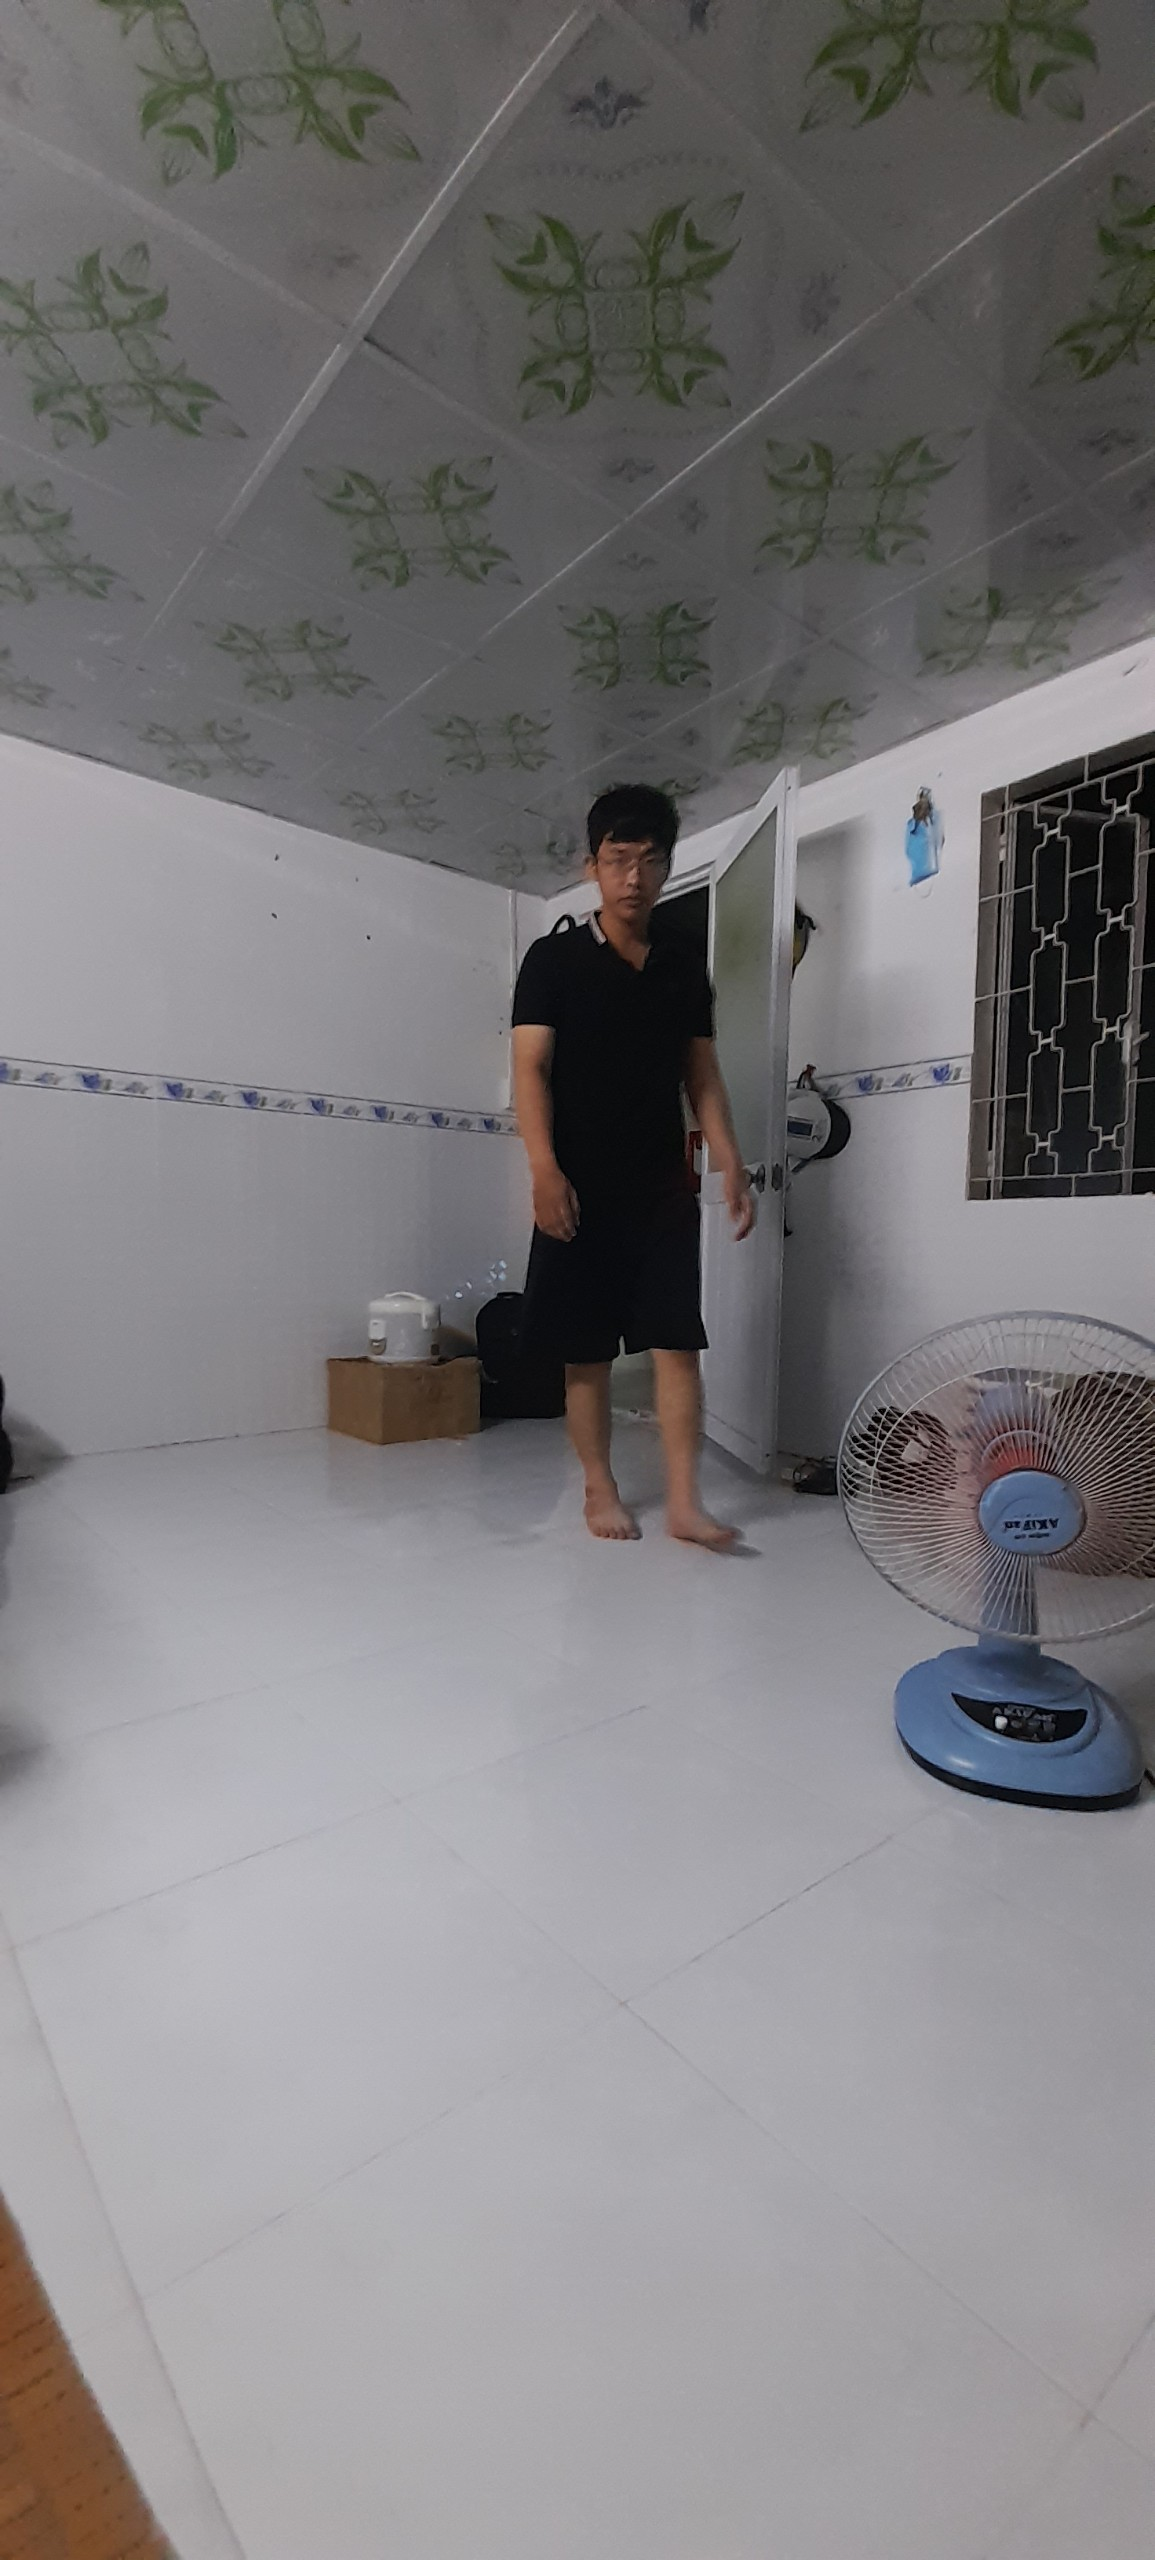person: (503, 779, 755, 1555)
